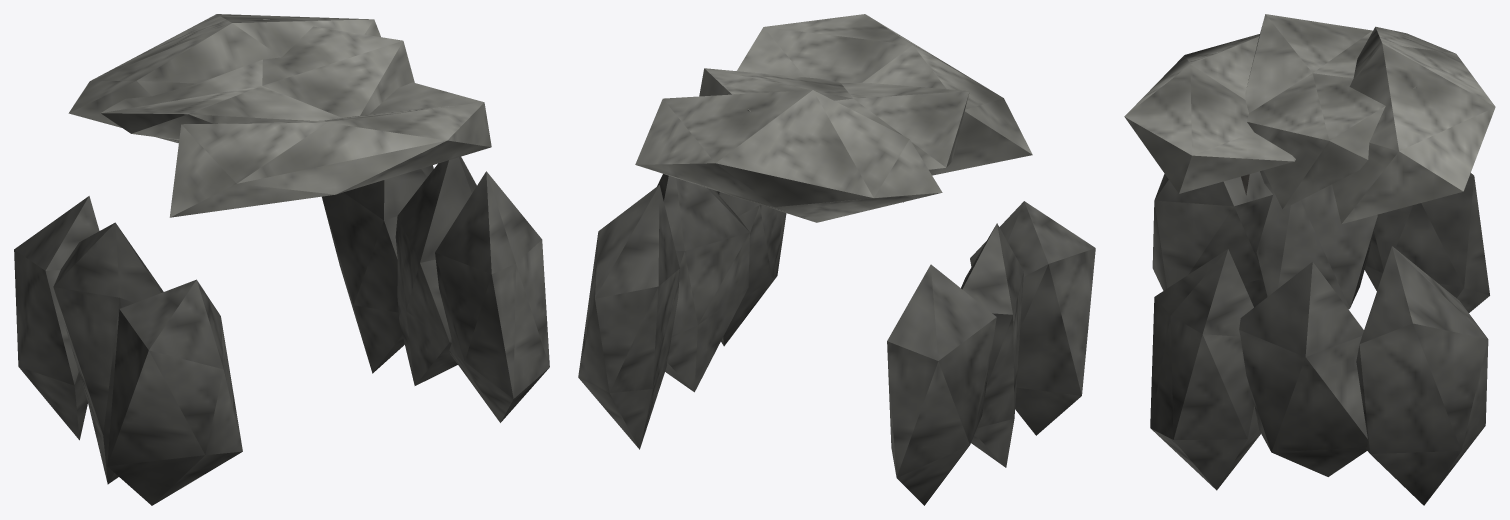
The model's file is SM_CaveTunnel_Segment_LOD1.fbx.
3 renders of one model, left to right at view 1: azimuth 30°, elevation 25°; view 2: azimuth 150°, elevation 25°; view 3: azimuth 270°, elevation 25°, orthographic. The views are drawn at different scales.
Visible parts, largest first — view 1: SM_CaveTunnel_Segment_LOD1; view 2: SM_CaveTunnel_Segment_LOD1; view 3: SM_CaveTunnel_Segment_LOD1.
Boxes of the visible parts, box(x1,y1,x2,y2) form: SM_CaveTunnel_Segment_LOD1: box(14, 14, 549, 505); SM_CaveTunnel_Segment_LOD1: box(578, 14, 1095, 505); SM_CaveTunnel_Segment_LOD1: box(1124, 14, 1495, 505).
Bounding box in the file's own units: 14.55 × 13.2 × 11.47.
Materials: 1 (1 with a texture image).
